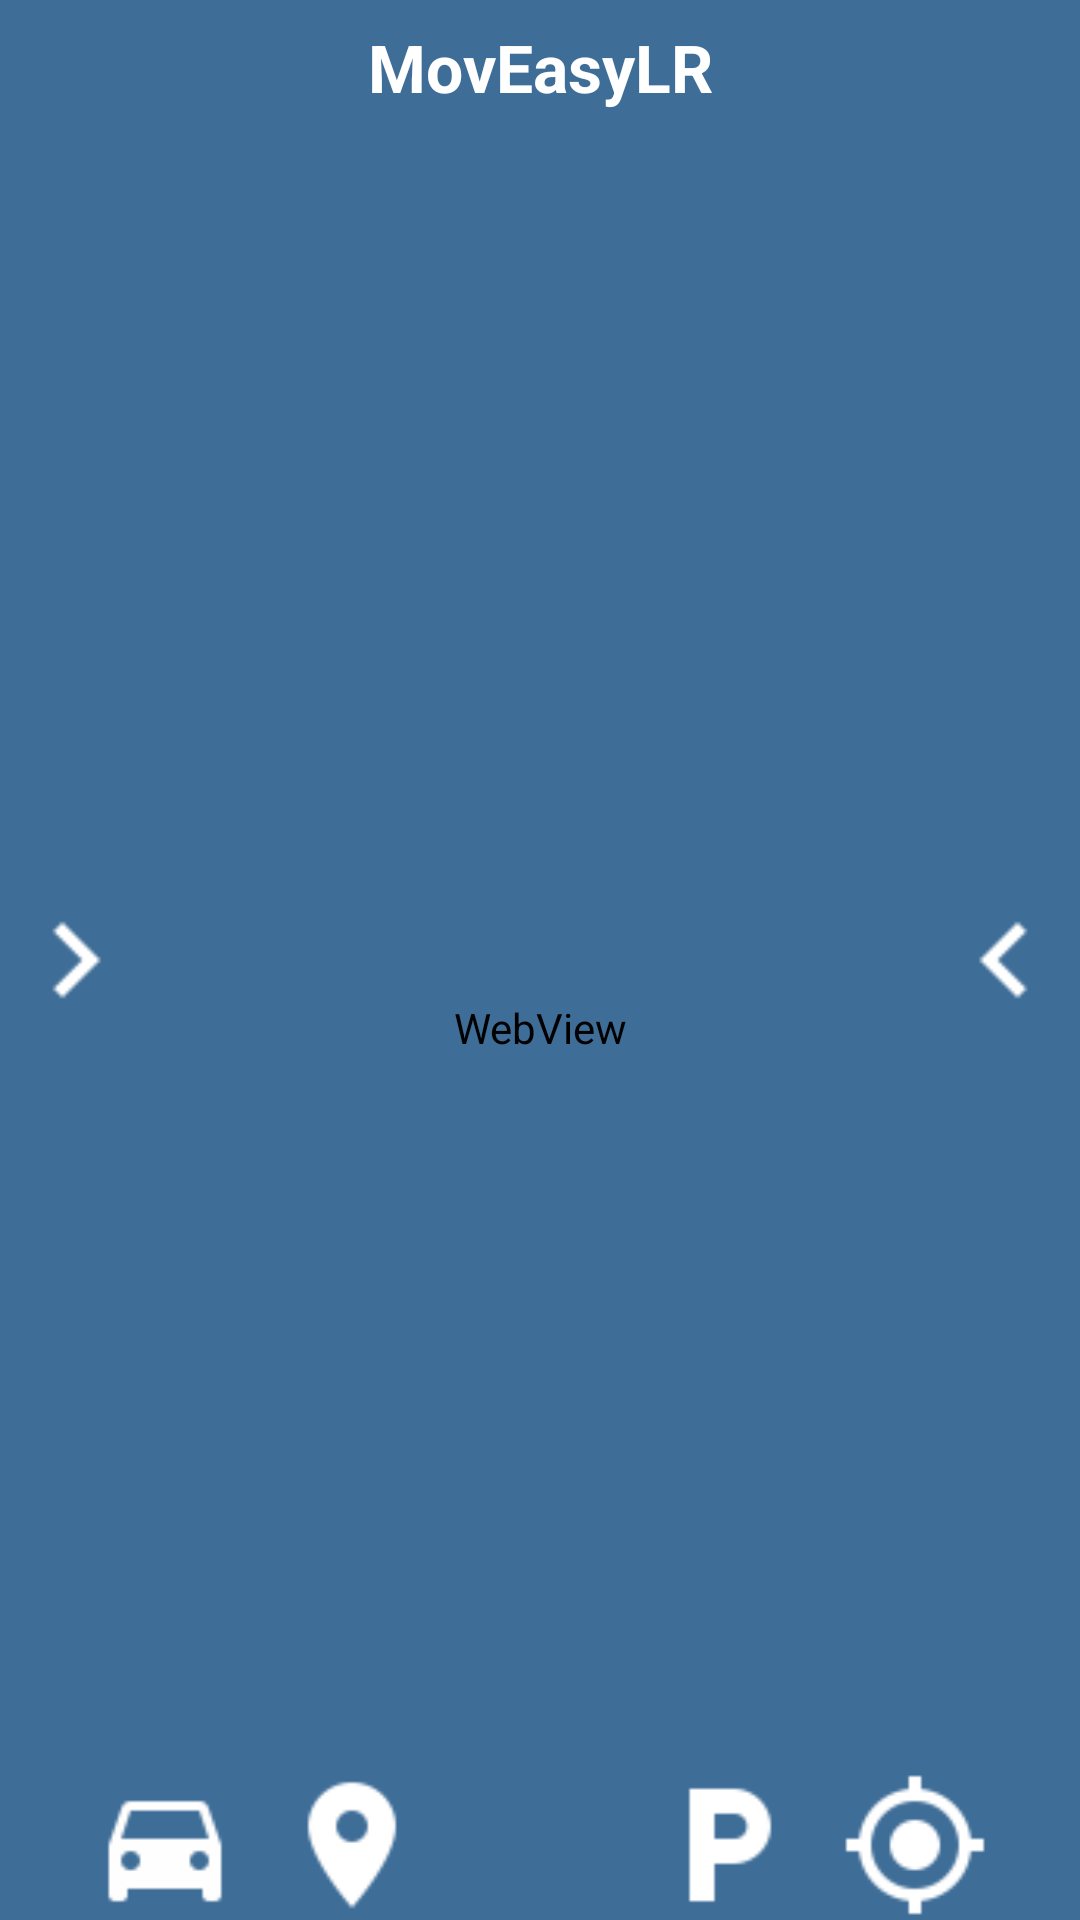

Point at icon controls on the screen. Image size 1080x1920, points as [x,y].
center map: [915,1845]
chevron left: [1003,960]
chevron right: [76,960]
